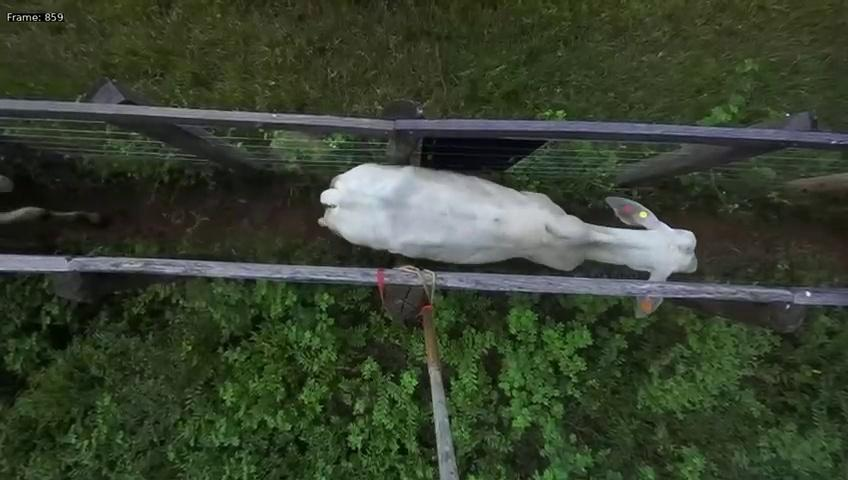cattle: (315, 126, 700, 280)
